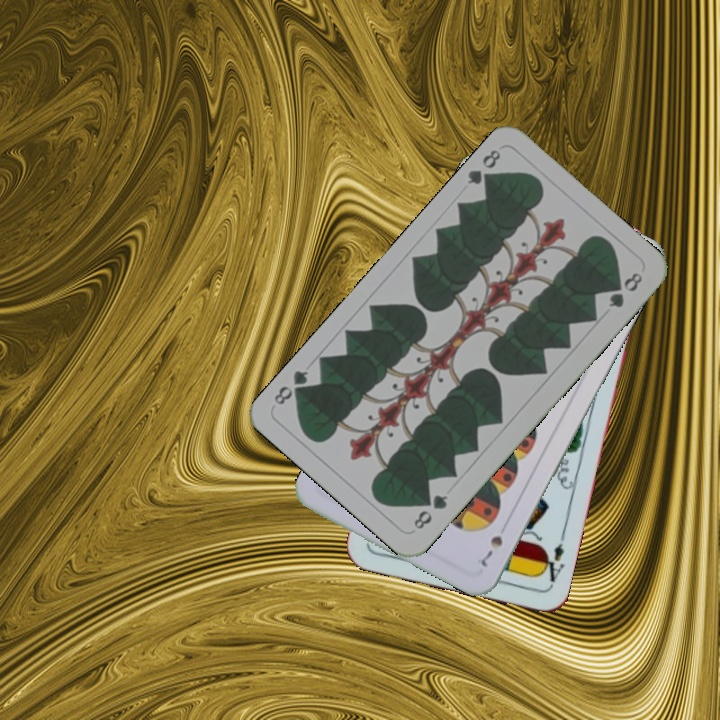EA: (536, 539, 567, 589)
G8: (462, 145, 504, 191), (409, 490, 451, 532)
S7: (476, 531, 506, 570)
